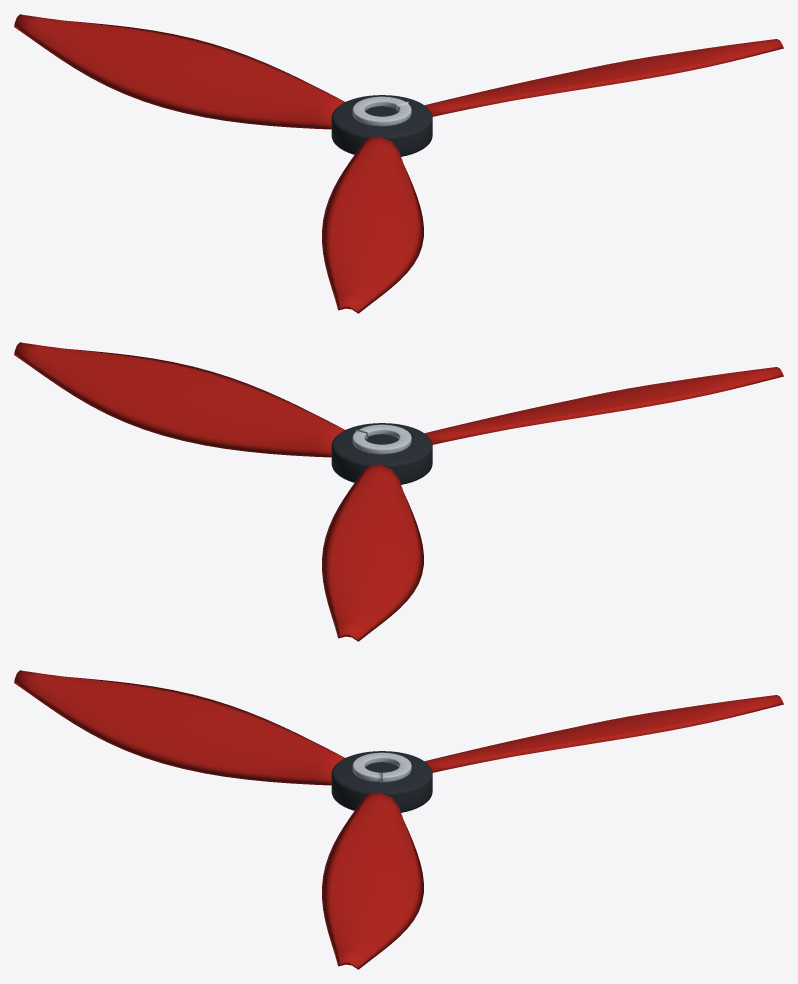
Rendered from SM_PropellerCW.glb.
3 views of the same model, one above another, from view 1: azimuth 30°, elevation 25°; view 2: azimuth 150°, elevation 25°; view 3: azimuth 270°, elevation 25° (orthographic).
Parts seen in each view (by area): view 1: SM_PropellerCW; view 2: SM_PropellerCW; view 3: SM_PropellerCW.
Part boxes in pixels (box(x1,y1,x2,y2)): SM_PropellerCW: box(14, 14, 783, 313); SM_PropellerCW: box(14, 342, 783, 641); SM_PropellerCW: box(14, 670, 783, 969).
Size of the model in its own units: 0.0825 by 0.00433 by 0.0913.
